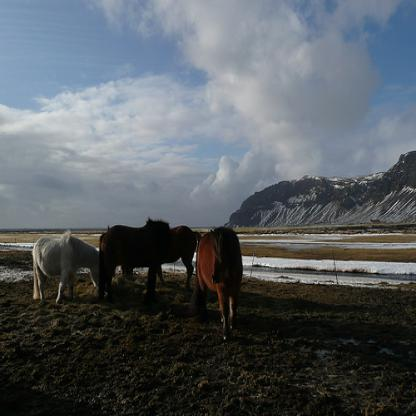horse: (100, 222, 180, 304), (196, 226, 244, 340), (122, 224, 202, 291), (33, 231, 98, 303)
